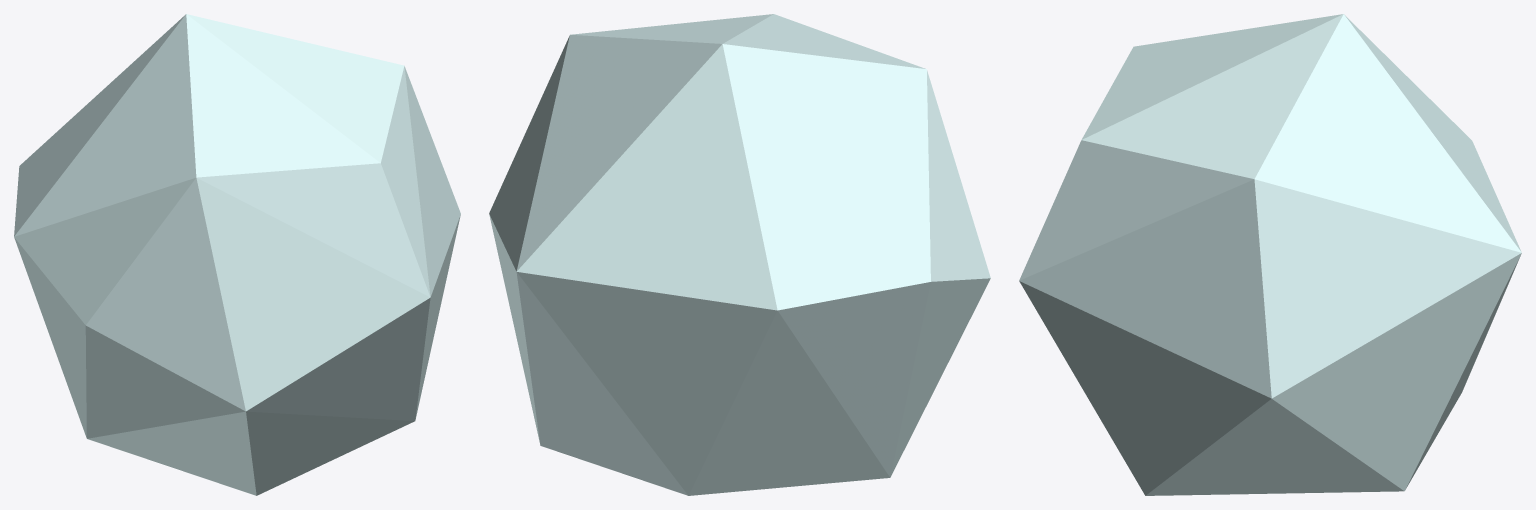
Rendered from shrub_white.glb.
3 views of the same model, side by side, from view 1: azimuth 30°, elevation 25°; view 2: azimuth 150°, elevation 25°; view 3: azimuth 270°, elevation 25° (orthographic). The views are drawn at different scales.
Parts seen in each view (by area): view 1: shrub_winter; view 2: shrub_winter; view 3: shrub_winter.
Boxes of the visible parts, <box> form: shrub_winter: <box>14,14,460,495</box>; shrub_winter: <box>489,14,990,495</box>; shrub_winter: <box>1019,14,1521,495</box>.
Bounding box in the file's own units: 1.5 × 1.48 × 1.43.
Materials: 1 (1 with a texture image).
